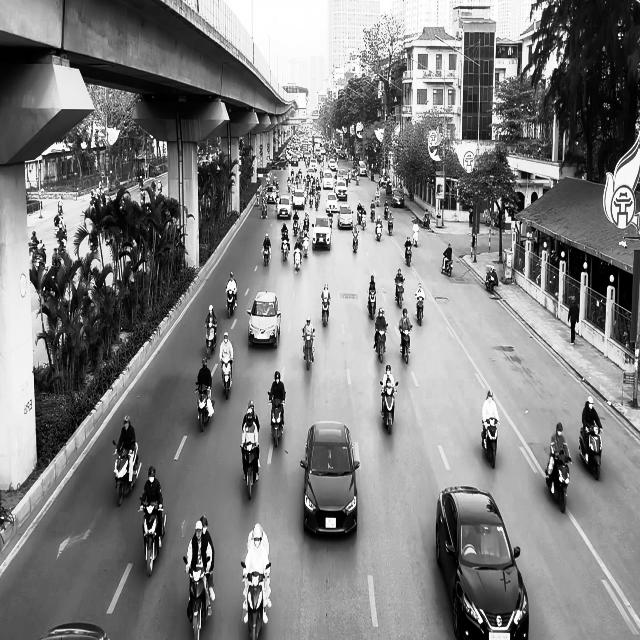car: (436, 485, 530, 639), (300, 420, 361, 537), (247, 290, 281, 348), (312, 216, 332, 250), (391, 188, 405, 207)
motorbike: (184, 556, 214, 639), (241, 560, 271, 639), (140, 500, 167, 576), (113, 440, 141, 506), (545, 446, 572, 513), (579, 424, 603, 480), (240, 442, 260, 500), (380, 380, 399, 434), (268, 390, 286, 447), (196, 383, 215, 432), (482, 417, 499, 468), (220, 356, 233, 400), (375, 322, 388, 363), (400, 325, 413, 364), (303, 329, 315, 370), (205, 322, 218, 357), (485, 266, 498, 294), (226, 286, 237, 318), (395, 277, 405, 308), (441, 253, 453, 277), (368, 289, 377, 318), (322, 298, 331, 326), (281, 233, 290, 261), (416, 296, 424, 326), (262, 244, 272, 266), (352, 226, 359, 252), (405, 243, 412, 267), (387, 216, 394, 235), (376, 222, 382, 241), (413, 228, 419, 247)
